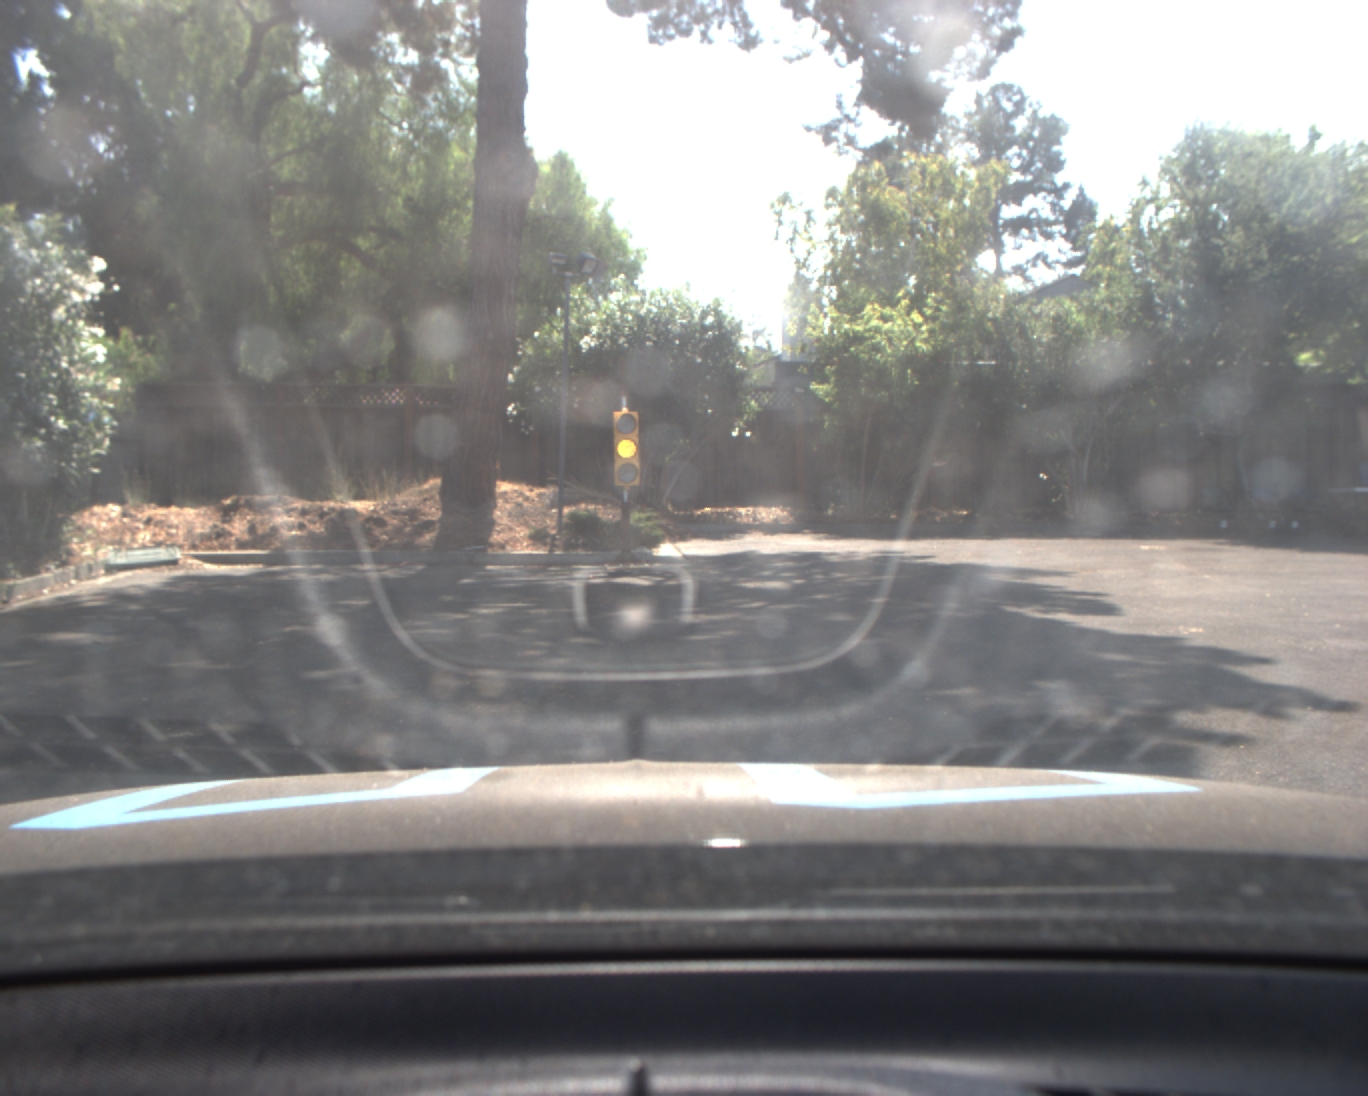yellow: (611, 407, 645, 491)
